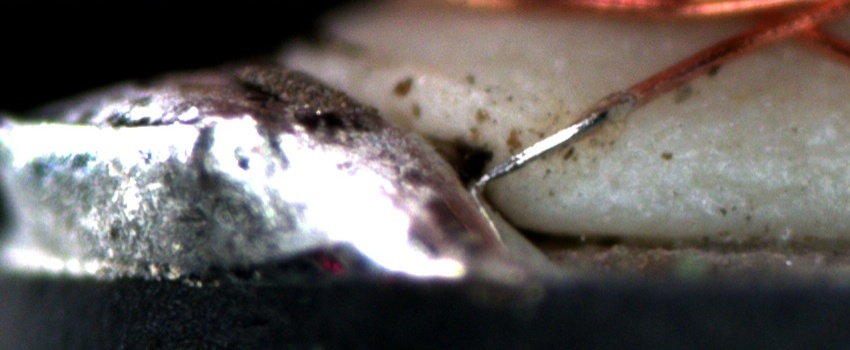TS: (471, 112, 611, 193)
